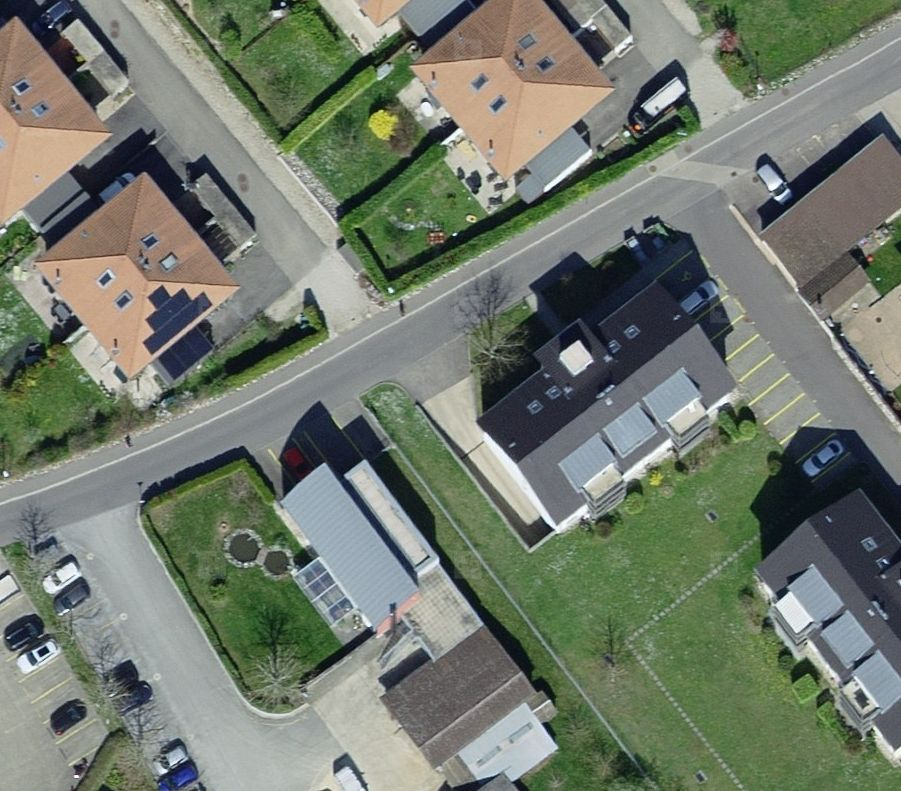solar: (140, 284, 218, 378)
